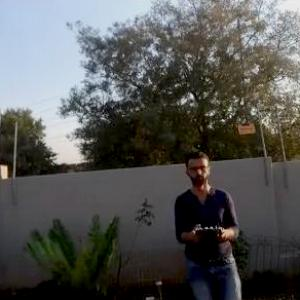follow: (170, 150, 248, 299)
